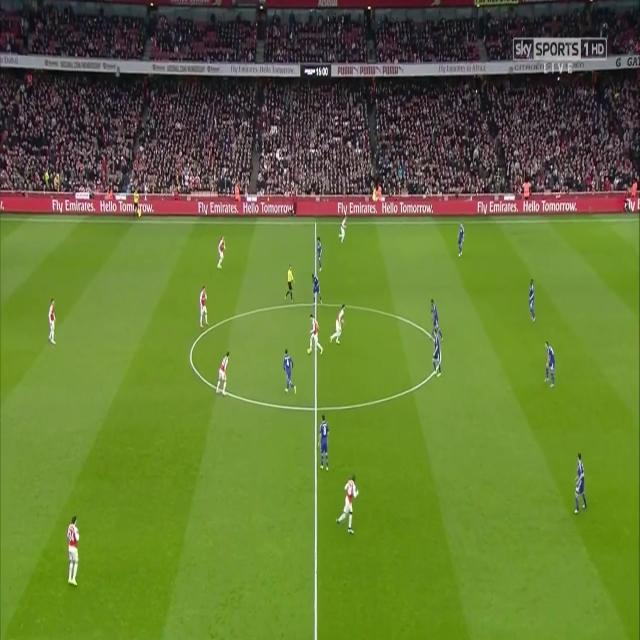Ball: (306, 346, 312, 356)
Player: (334, 472, 360, 536), (66, 512, 82, 590), (571, 451, 589, 520), (282, 347, 299, 397), (317, 414, 331, 474), (328, 300, 346, 346), (214, 348, 231, 396), (309, 310, 326, 356), (428, 298, 445, 340), (544, 338, 556, 391), (46, 296, 58, 346), (431, 329, 442, 382), (198, 285, 210, 330), (215, 232, 227, 273), (310, 271, 324, 306), (528, 274, 537, 326), (337, 209, 348, 244), (457, 220, 465, 260), (316, 233, 322, 272)
Referee: (284, 264, 296, 306), (129, 187, 141, 220)
